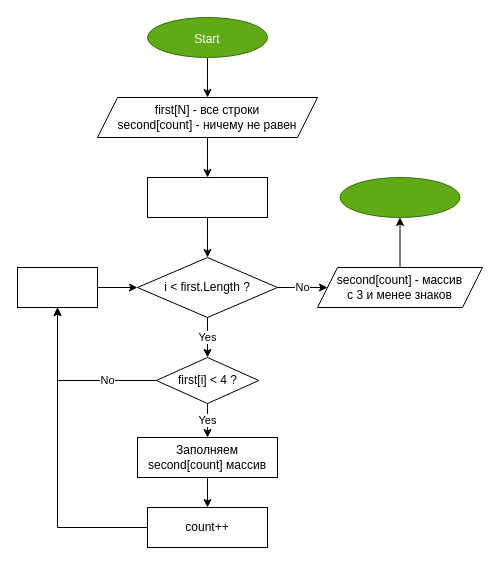
Some shapes in this 500 by 565 pixel diagram are drawn without their labels. Here are the shapes that lost their labels. From the top down, the centre of each, then its label:
the point at 207,197: i = 0 count = 0
the point at 399,197: Fiinish
the point at 57,287: i++
